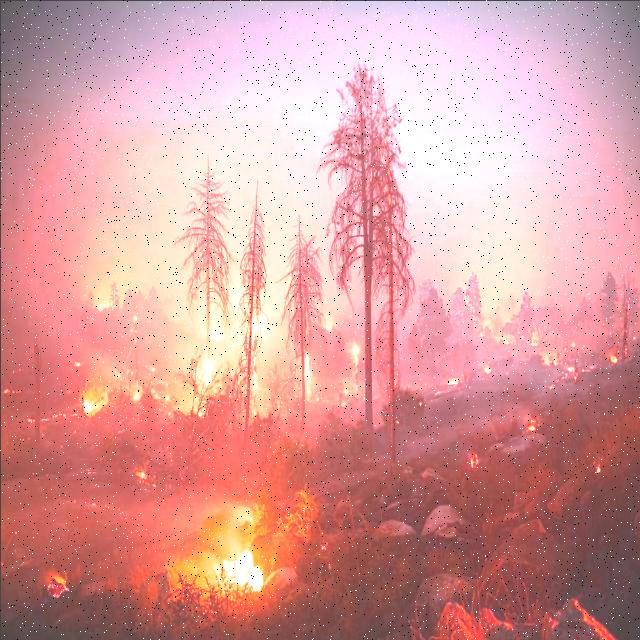api: (229, 545, 262, 603), (80, 382, 104, 418), (346, 344, 360, 380), (463, 454, 488, 473), (202, 362, 214, 390), (211, 325, 221, 343)
asap: (1, 42, 167, 443)
